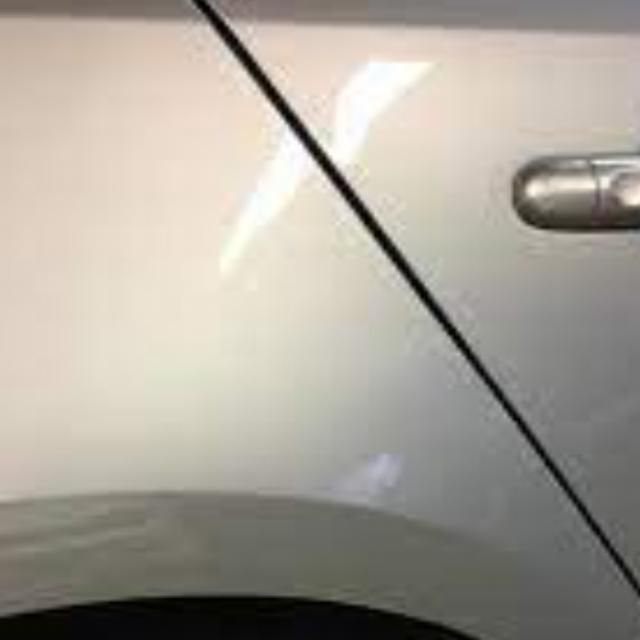dents: (0, 478, 196, 600)
